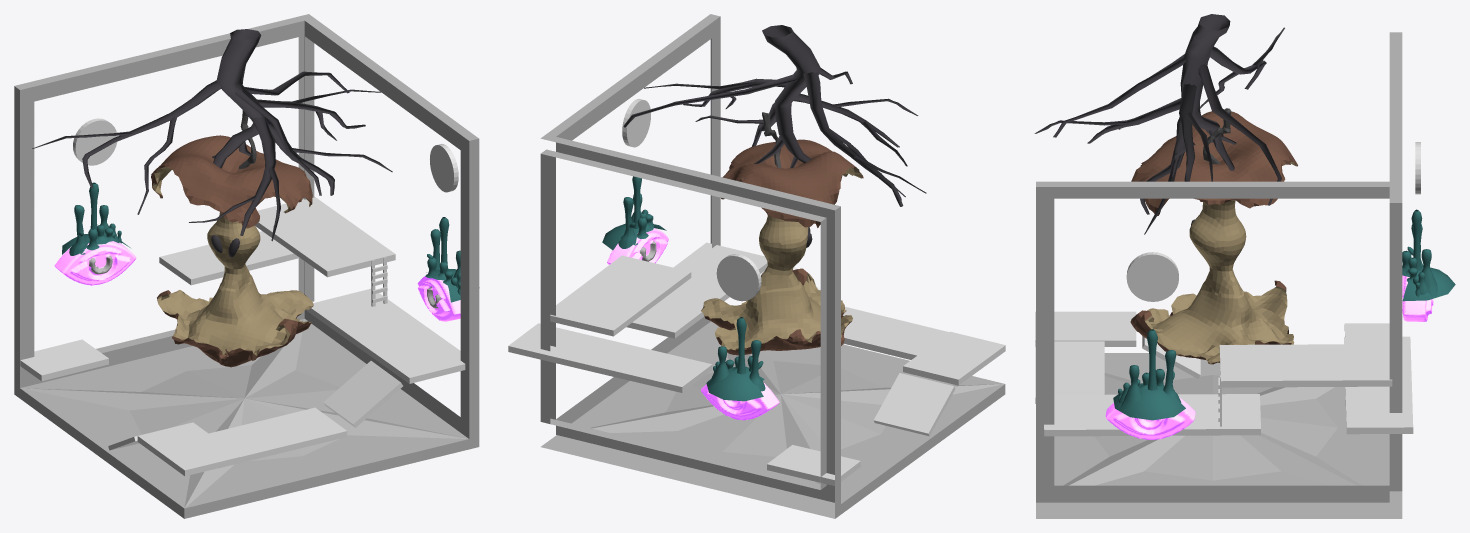
Rendered from text_wutonsence01.fbx.
3 renders of one model, left to right at view 1: azimuth 30°, elevation 25°; view 2: azimuth 150°, elevation 25°; view 3: azimuth 270°, elevation 25°, orthographic. The views are drawn at different scales.
Visible parts, largest first — view 1: 立方体, Line002.006, tree, 立方体.006, 立方体.008, 立方体.004, 立方体.001, 立方体.005, 立方体.010, eye_out001.003, 立方体.007, eyeman (+5 smaller); view 2: 立方体, Line002.006, tree, 立方体.008, 立方体.005, 立方体.006, 立方体.009, 立方体.001, 立方体.004, eyeman, 立方体.007, eyeman.001 (+4 smaller); view 3: 立方体, Line002.006, tree, 立方体.008, 立方体.006, 立方体.005, eyeman.001, 立方体.001, 立方体.004, eyeman, 柱体.002, eye_out001.001 (+3 smaller).
Part boxes in pixels (<box>): 立方体: <box>14,14,479,518</box>; Line002.006: <box>151,135,313,367</box>; tree: <box>32,29,392,241</box>; 立方体.006: <box>306,288,465,383</box>; 立方体.008: <box>255,196,395,277</box>; 立方体.004: <box>209,407,347,468</box>; 立方体.001: <box>137,422,240,476</box>; 立方体.005: <box>159,231,299,285</box>; 立方体.010: <box>323,361,402,427</box>; eye_out001.003: <box>54,241,136,285</box>; 立方体.007: <box>20,339,108,381</box>; eyeman: <box>62,182,130,255</box>; 立方体: <box>540,14,1005,518</box>; Line002.006: <box>701,139,863,355</box>; tree: <box>623,25,926,206</box>; 立方体.008: <box>550,255,691,336</box>; 立方体.005: <box>508,323,712,392</box>; 立方体.006: <box>626,242,767,338</box>; 立方体.009: <box>873,373,955,436</box>; 立方体.001: <box>903,331,1005,385</box>; 立方体.004: <box>842,307,948,359</box>; eyeman: <box>706,317,765,401</box>; 立方体.007: <box>767,445,860,485</box>; eyeman.001: <box>602,176,666,250</box>; 立方体: <box>1036,32,1402,518</box>; Line002.006: <box>1130,111,1297,364</box>; tree: <box>1034,14,1284,234</box>; 立方体.008: <box>1219,344,1392,387</box>; 立方体.006: <box>1044,394,1260,436</box>; 立方体.005: <box>1344,336,1413,434</box>; eyeman.001: <box>1113,329,1185,420</box>; 立方体.001: <box>1035,311,1136,346</box>; 立方体.004: <box>1035,341,1104,403</box>; eyeman: <box>1402,209,1455,301</box>; 柱体.002: <box>1126,252,1178,301</box>; eye_out001.001: <box>1105,397,1195,439</box>.
Size of the model in its own units: 1341 by 1307 by 1191.
